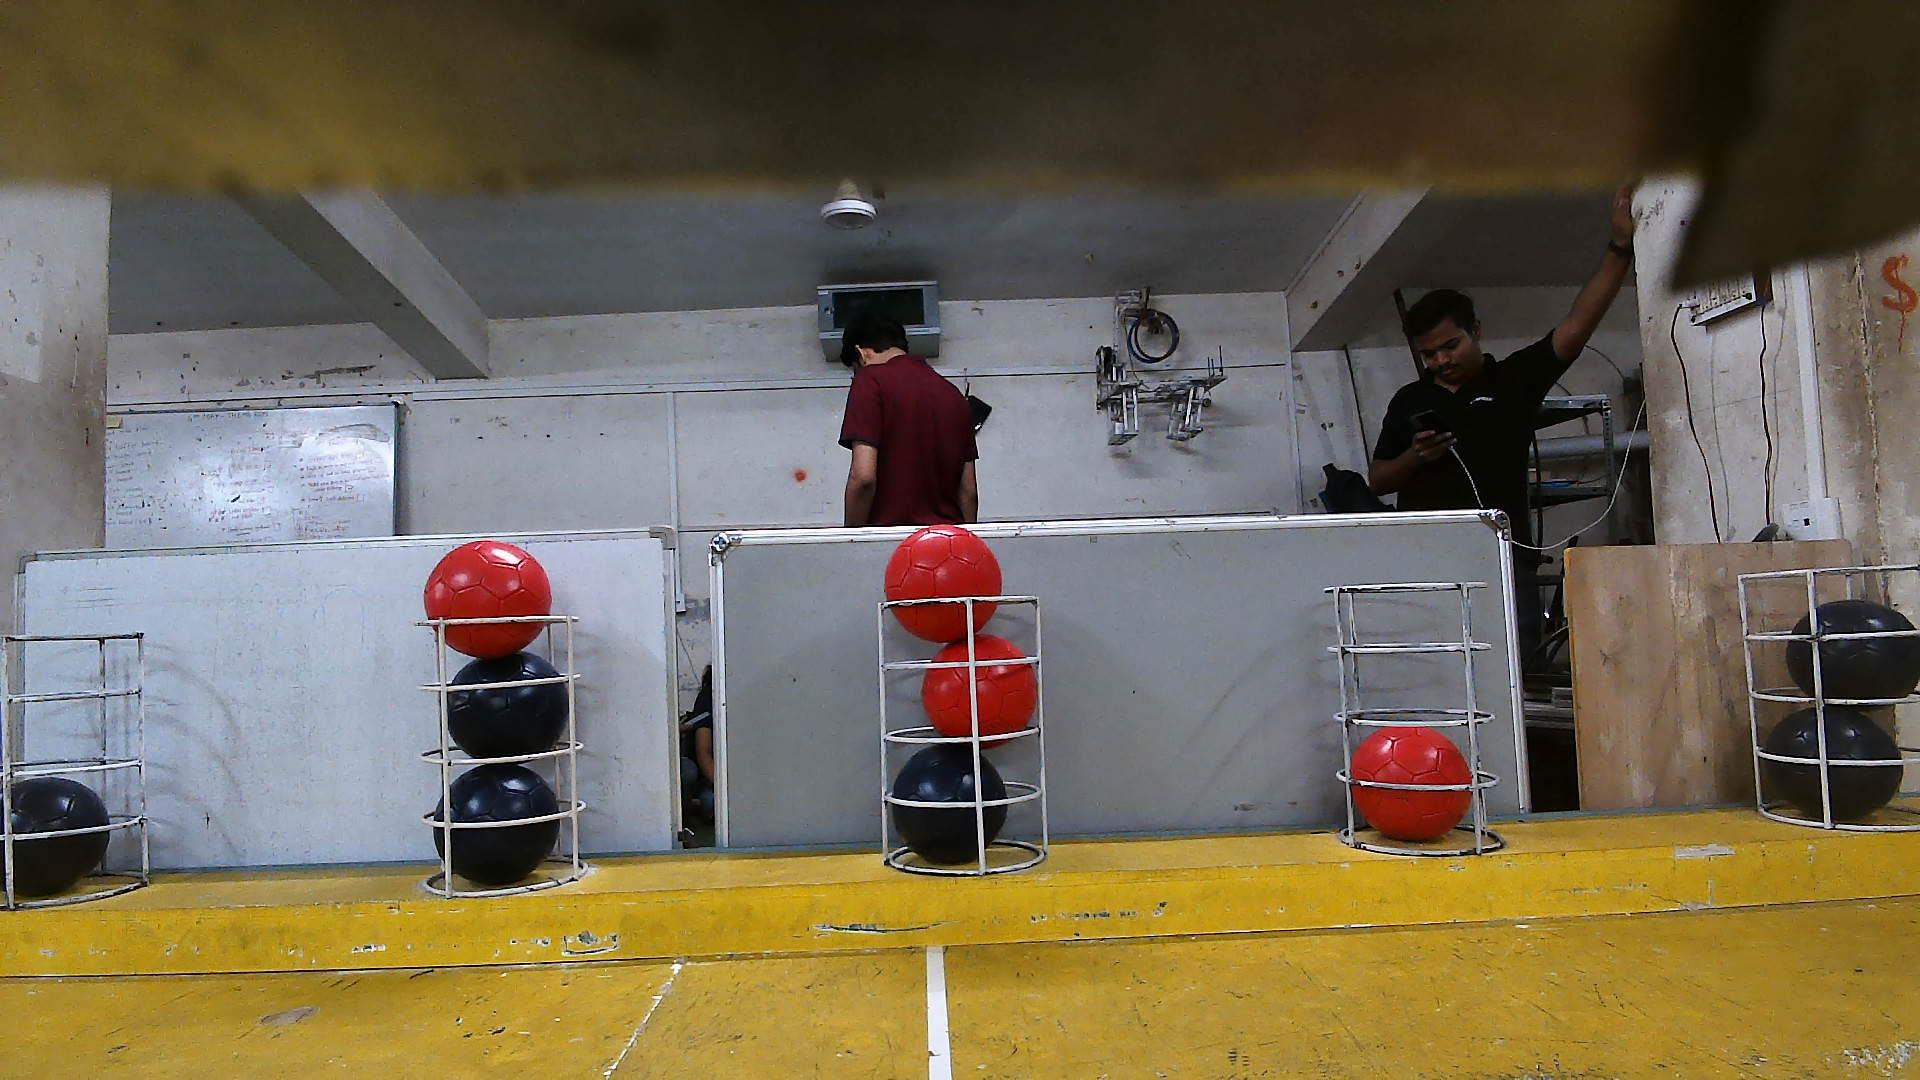dhoka: (1766, 705, 1903, 816), (1787, 599, 1920, 711), (438, 765, 555, 880), (447, 647, 570, 757), (895, 744, 1007, 858), (12, 779, 112, 897)
laale: (423, 542, 551, 658), (1354, 729, 1468, 844), (922, 634, 1036, 748), (885, 529, 1001, 638)
